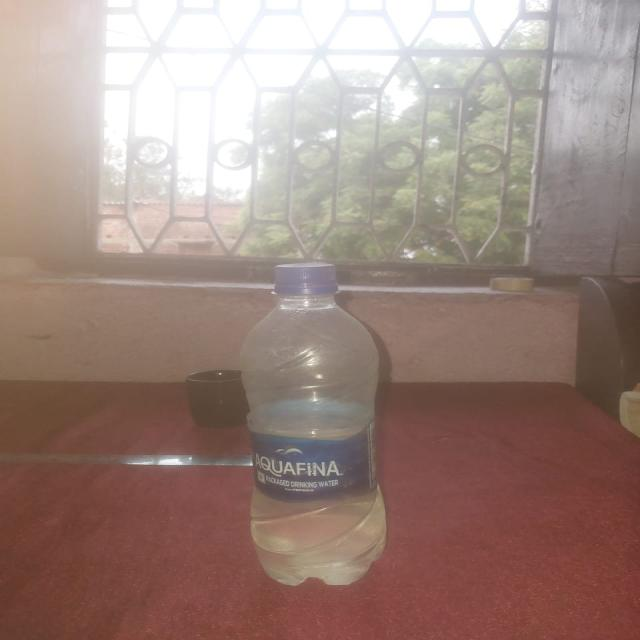Bottle: (237, 262, 387, 584)
Cup: (188, 363, 235, 425)
